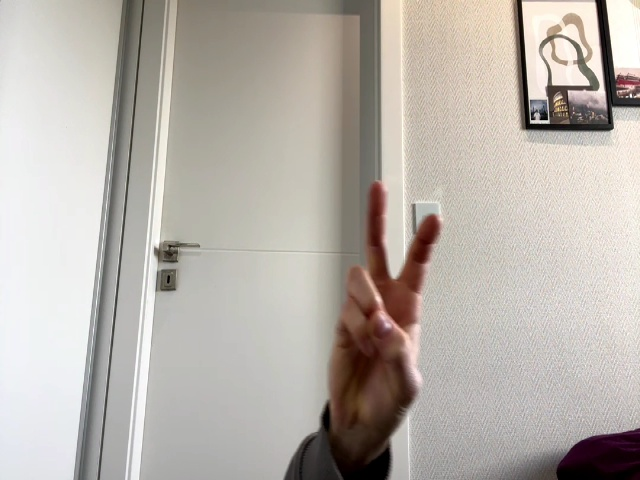H: (329, 181, 442, 442)
